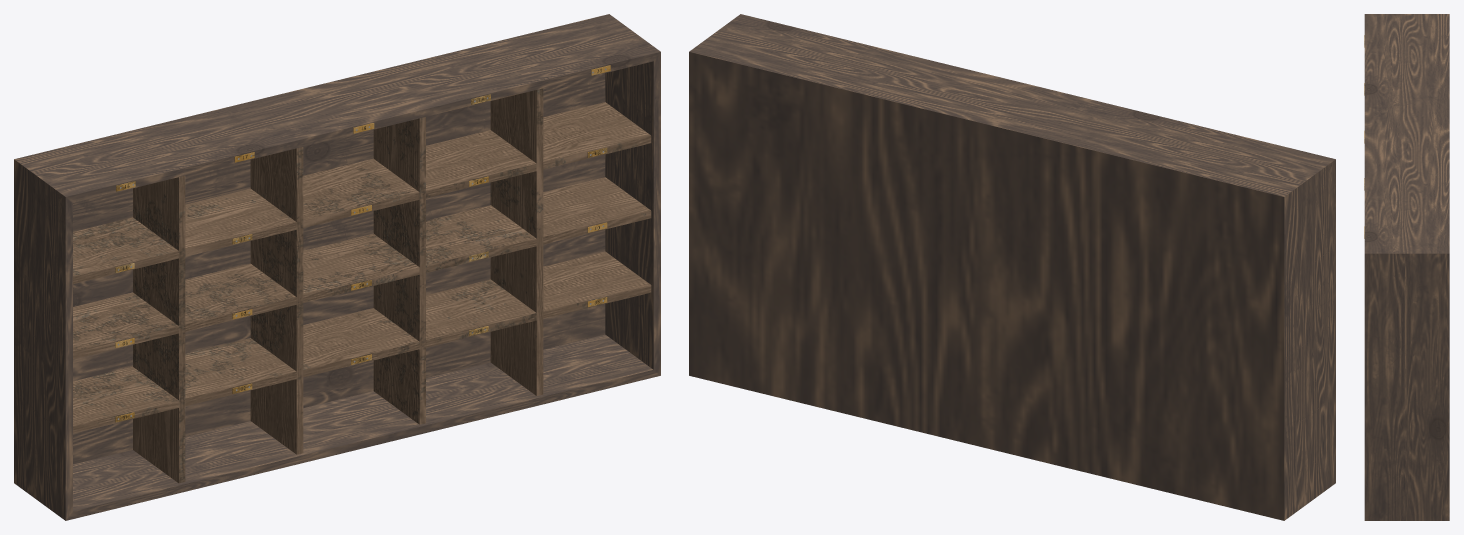
3 views of the same model, side by side, from view 1: azimuth 30°, elevation 25°; view 2: azimuth 150°, elevation 25°; view 3: azimuth 270°, elevation 25° (orthographic). The views are drawn at different scales.
Parts seen in each view (by area): view 1: Casilleros.Comedor; view 2: Casilleros.Comedor; view 3: Casilleros.Comedor.
Boxes of the visible parts, left/top/right/bottom form: Casilleros.Comedor: left=14, top=14, right=660, bottom=520; Casilleros.Comedor: left=689, top=14, right=1335, bottom=520; Casilleros.Comedor: left=1364, top=14, right=1449, bottom=520.
Bounding box in the file's own units: 2.5 × 1.3 × 0.3776.
1 material, 1 textured.
